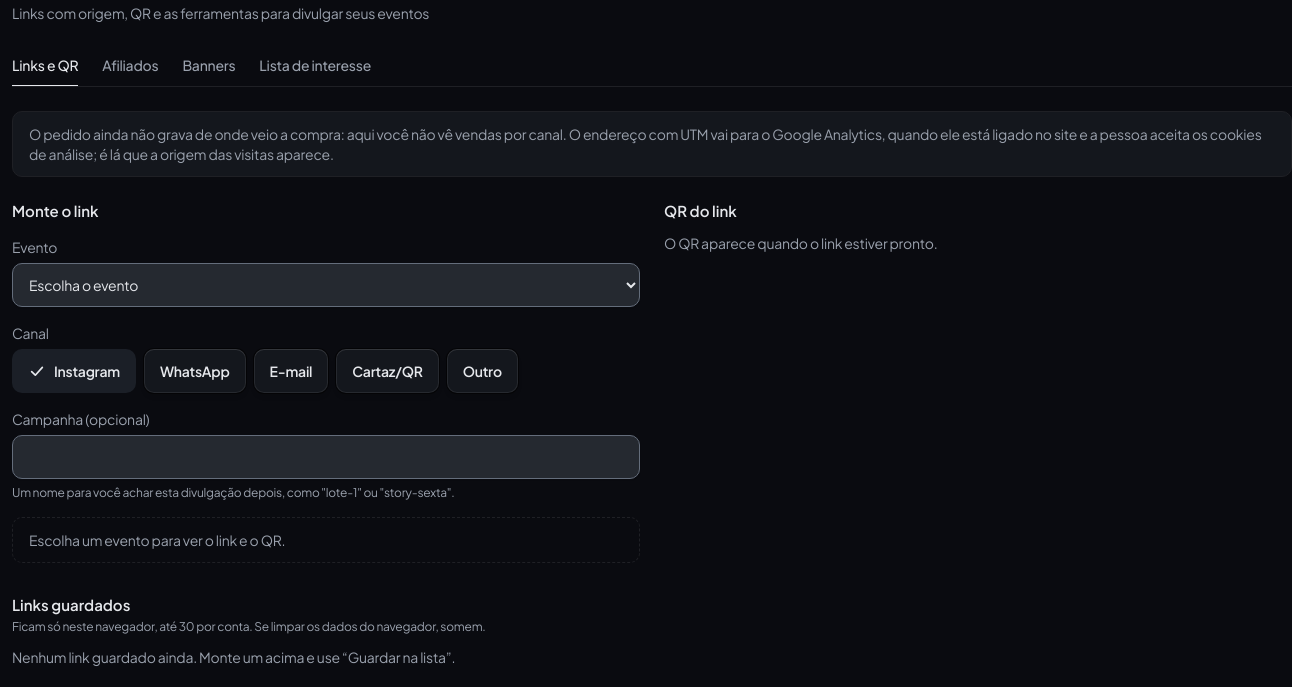
Divulgação: Links e QR › escolher o evento grava na URL
Step 1. Select "Festa Um" in the dropdown labelled "Evento" → (326, 285), box [12, 263, 640, 307]
(page scrolled)
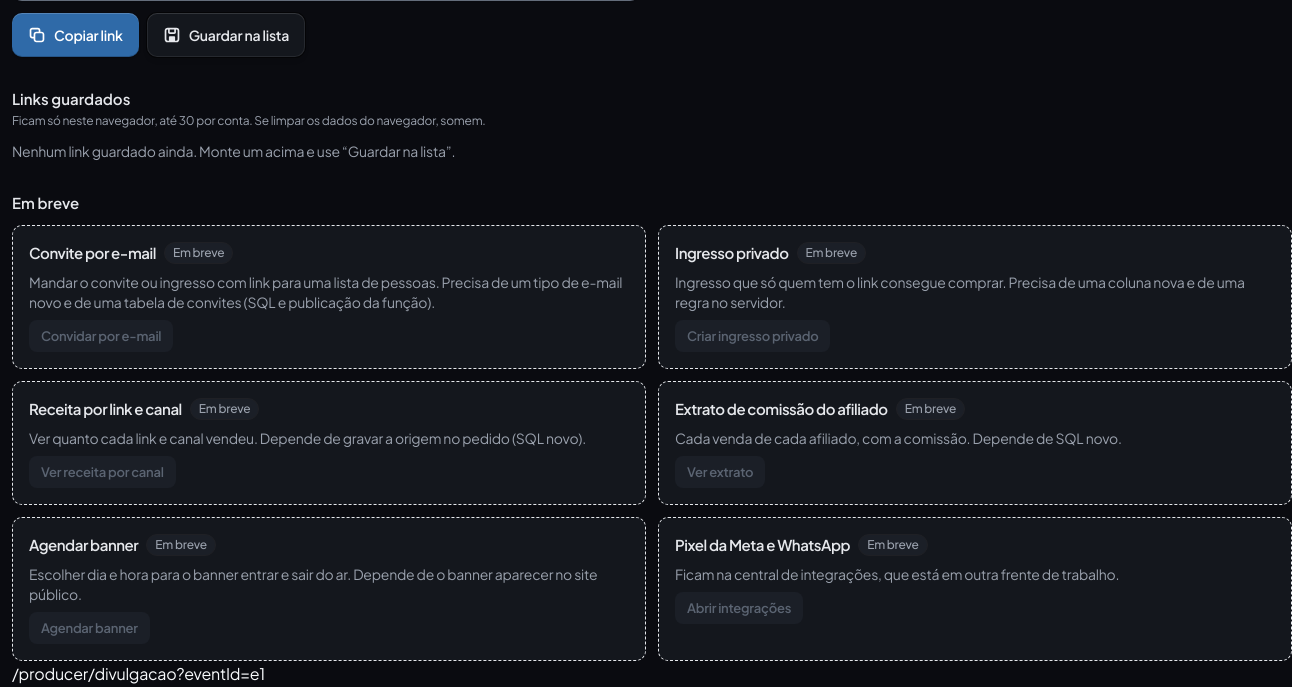
Now the text with test id "url" shows "eventId=e1", box [12, 663, 265, 684]
